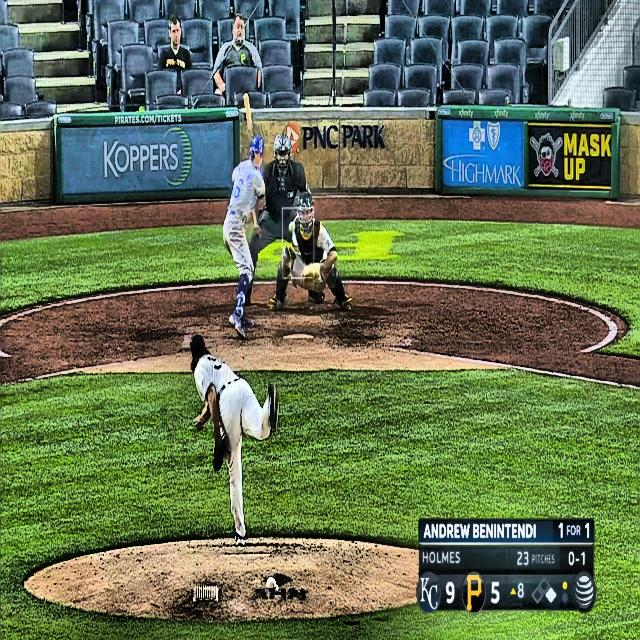baseball: (288, 220, 296, 233)
